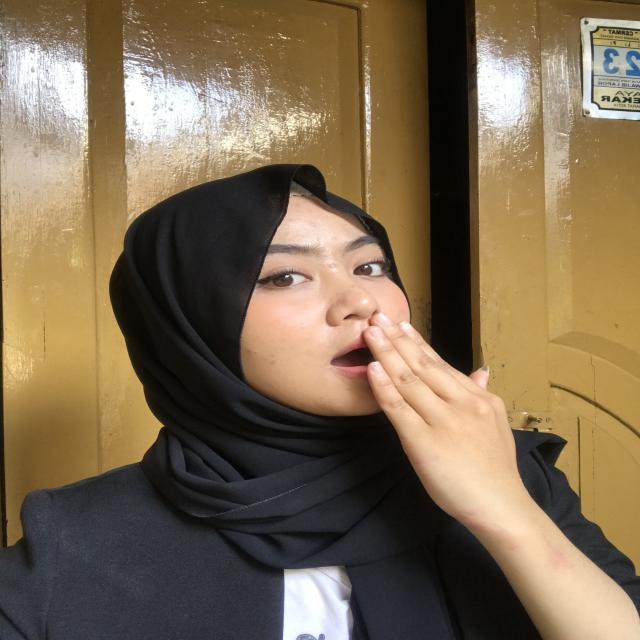ngantuk: (349, 300, 541, 532)
